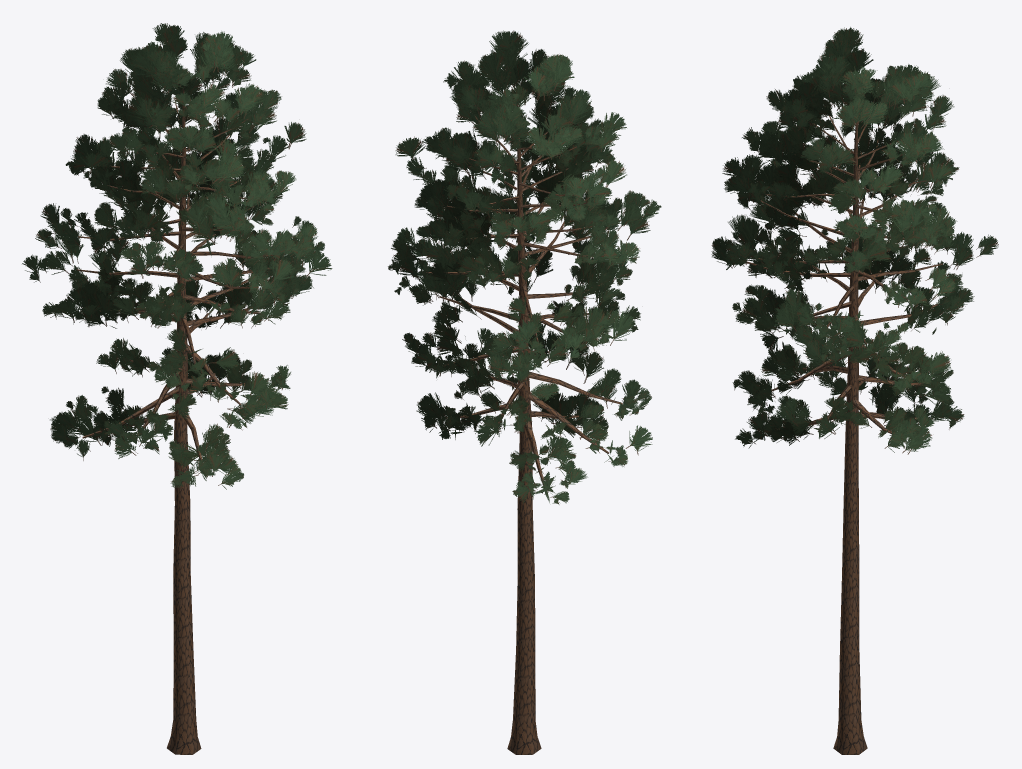
Rendered from pine_a_lod1.glb.
3 renders of one model, left to right at view 1: azimuth 30°, elevation 25°; view 2: azimuth 150°, elevation 25°; view 3: azimuth 270°, elevation 25°, orthographic.
Parts seen in each view (by area): view 1: pine_a_lod1; view 2: pine_a_lod1; view 3: pine_a_lod1.
Part boxes in pixels (bbox=[...]): pine_a_lod1: bbox=[22, 23, 332, 754]; pine_a_lod1: bbox=[388, 30, 661, 754]; pine_a_lod1: bbox=[711, 27, 998, 754].
Size of the model in its own units: 11.7 by 30.24 by 11.69.
2 materials, 2 textured.
